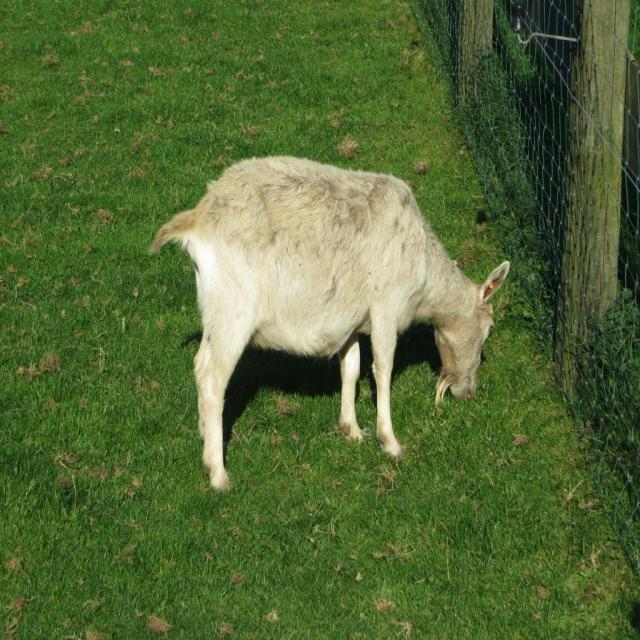Goat: (150, 152, 511, 494)
